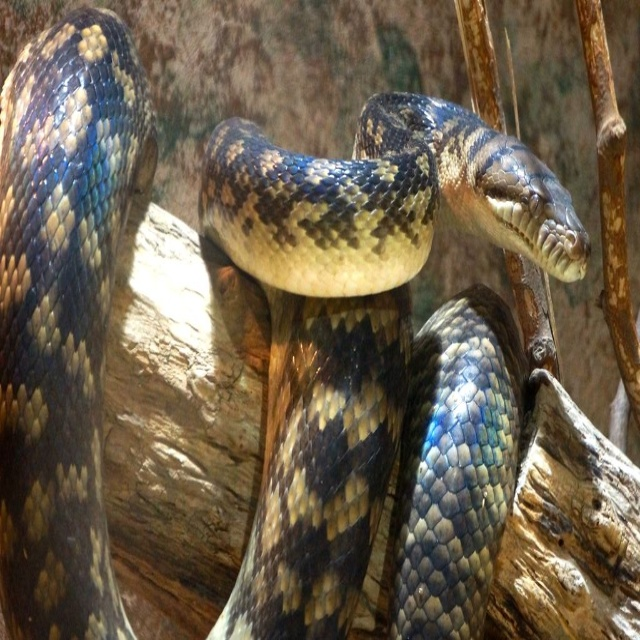Snake: (0, 9, 590, 637)
